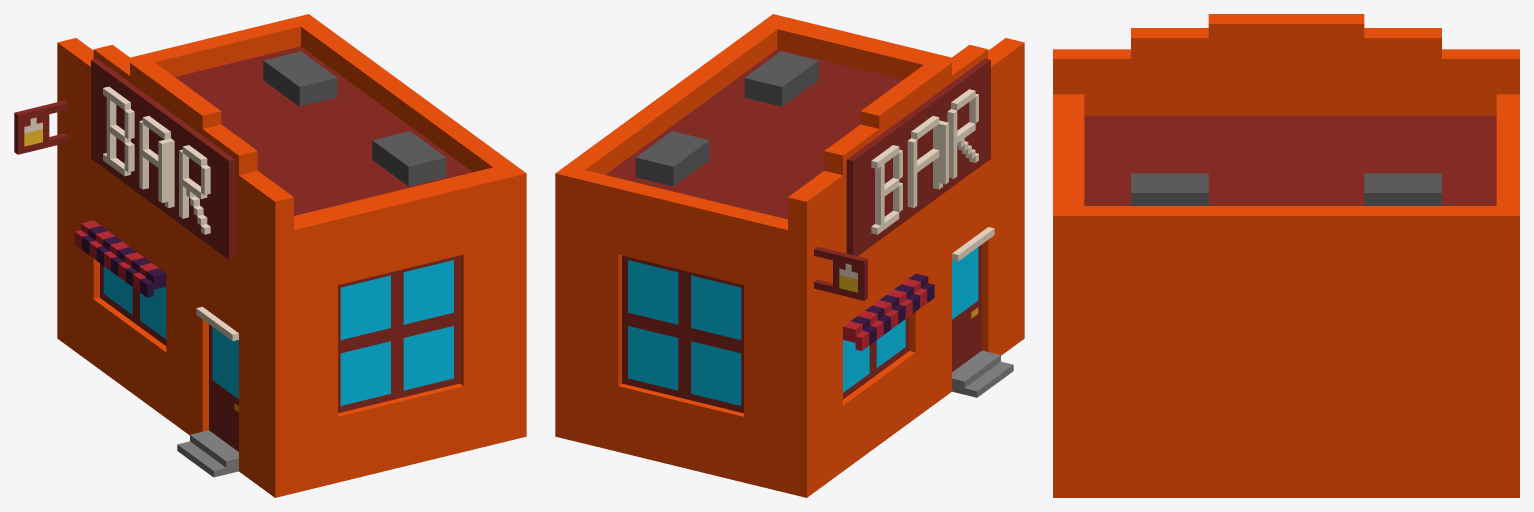
The model's file is Bar.obj.
3 views of the same model, side by side, from view 1: azimuth 30°, elevation 25°; view 2: azimuth 150°, elevation 25°; view 3: azimuth 270°, elevation 25° (orthographic). The views are drawn at different scales.
Size of the model in its own units: 4.8 by 5 by 6.
Materials: 1 (1 with a texture image).
